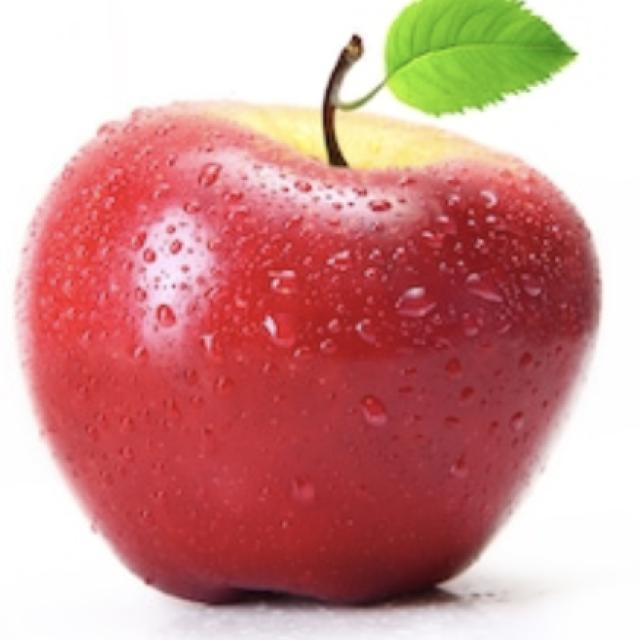Apple: (12, 37, 603, 607)
